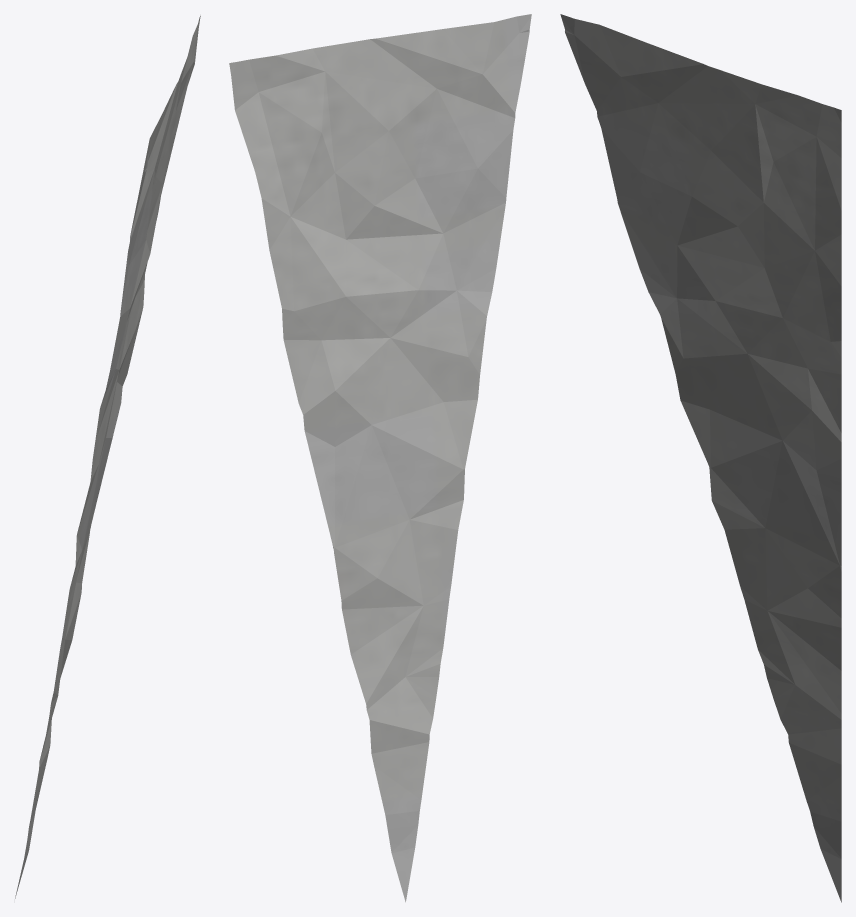
3 views of the same model, side by side, from view 1: azimuth 30°, elevation 25°; view 2: azimuth 150°, elevation 25°; view 3: azimuth 270°, elevation 25° (orthographic). The views are drawn at different scales.
Size of the model in its own units: 0.1047 by 0.4513 by 0.1293.
1 material, 1 textured.
